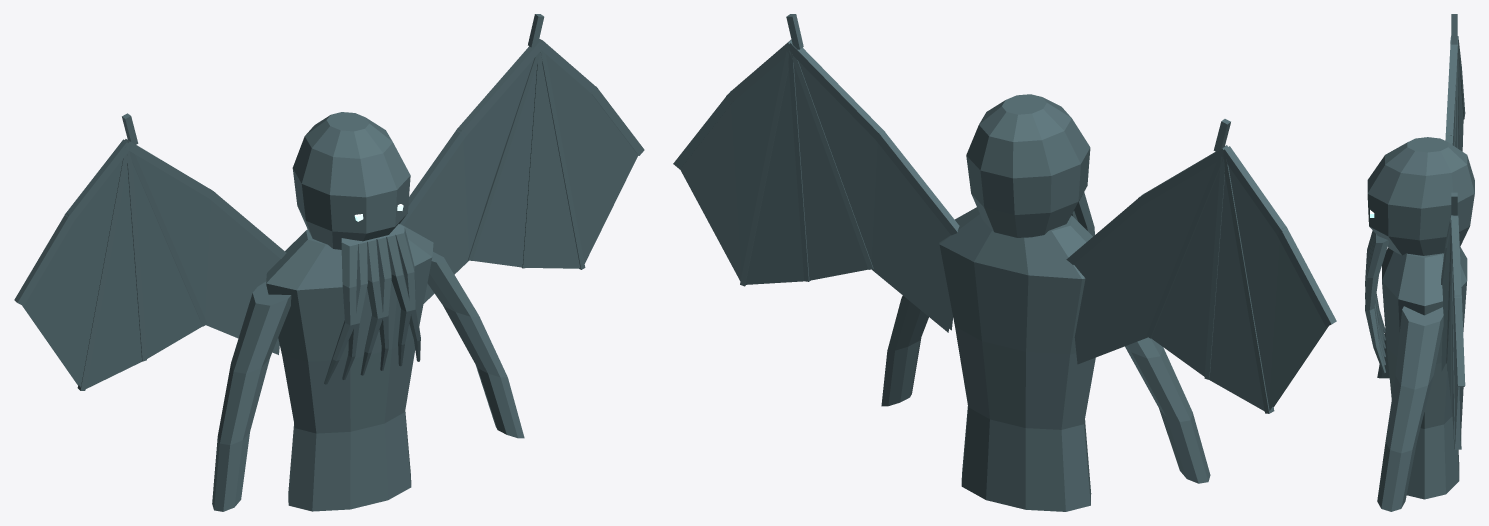
The model's file is outdoor_cthulhu.glb.
3 views of the same model, side by side, from view 1: azimuth 30°, elevation 25°; view 2: azimuth 150°, elevation 25°; view 3: azimuth 270°, elevation 25° (orthographic). The views are drawn at different scales.
Visible parts, largest first — view 1: Outdoor_CthulhuHorizon; view 2: Outdoor_CthulhuHorizon; view 3: Outdoor_CthulhuHorizon.
Boxes of the visible parts, left/top/right/bottom form: Outdoor_CthulhuHorizon: left=14, top=14, right=644, bottom=511; Outdoor_CthulhuHorizon: left=673, top=14, right=1336, bottom=511; Outdoor_CthulhuHorizon: left=1365, top=14, right=1474, bottom=511.
Bounding box in the file's own units: 38.94 × 24.52 × 6.61.
